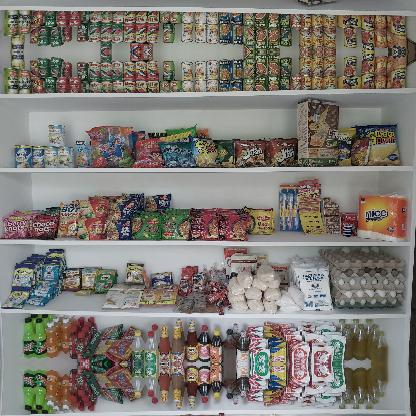Koko-Krunch: (298, 98, 338, 166)
